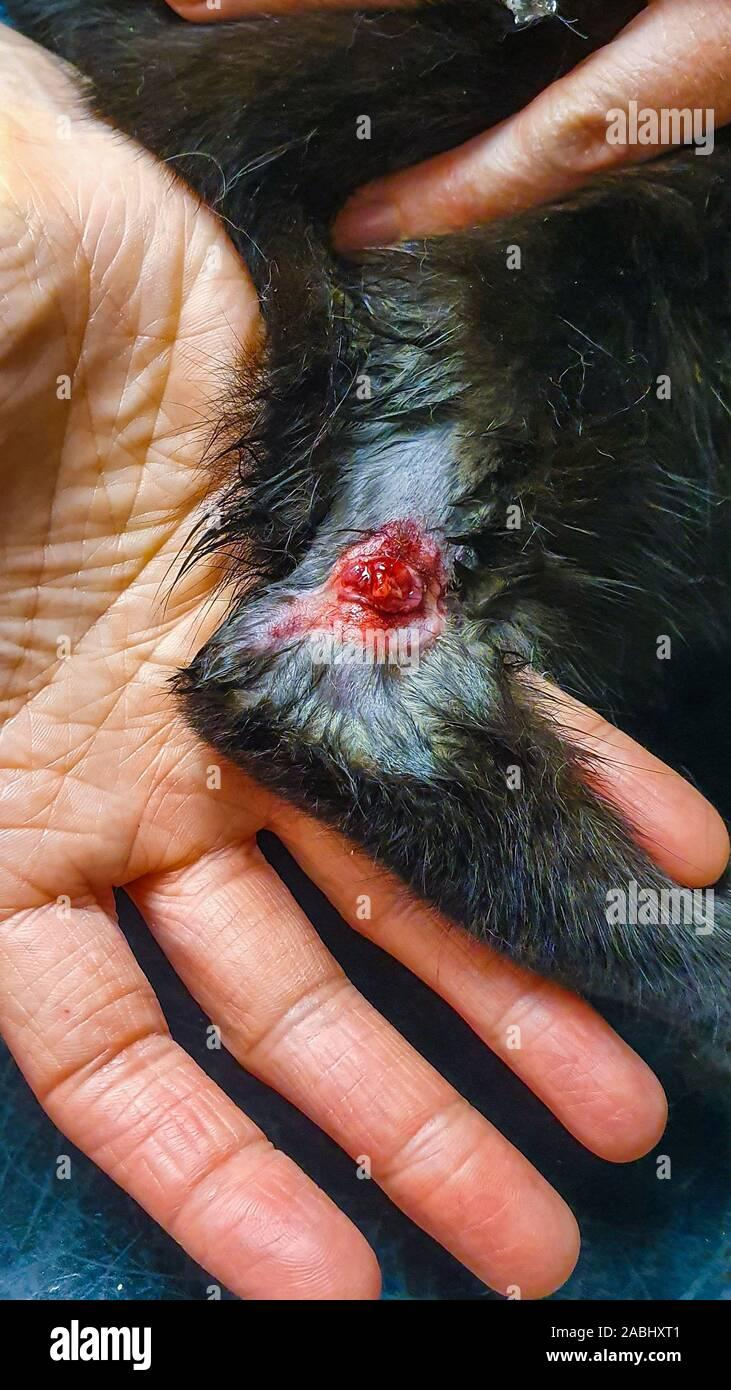bleeding: (293, 468, 513, 775)
